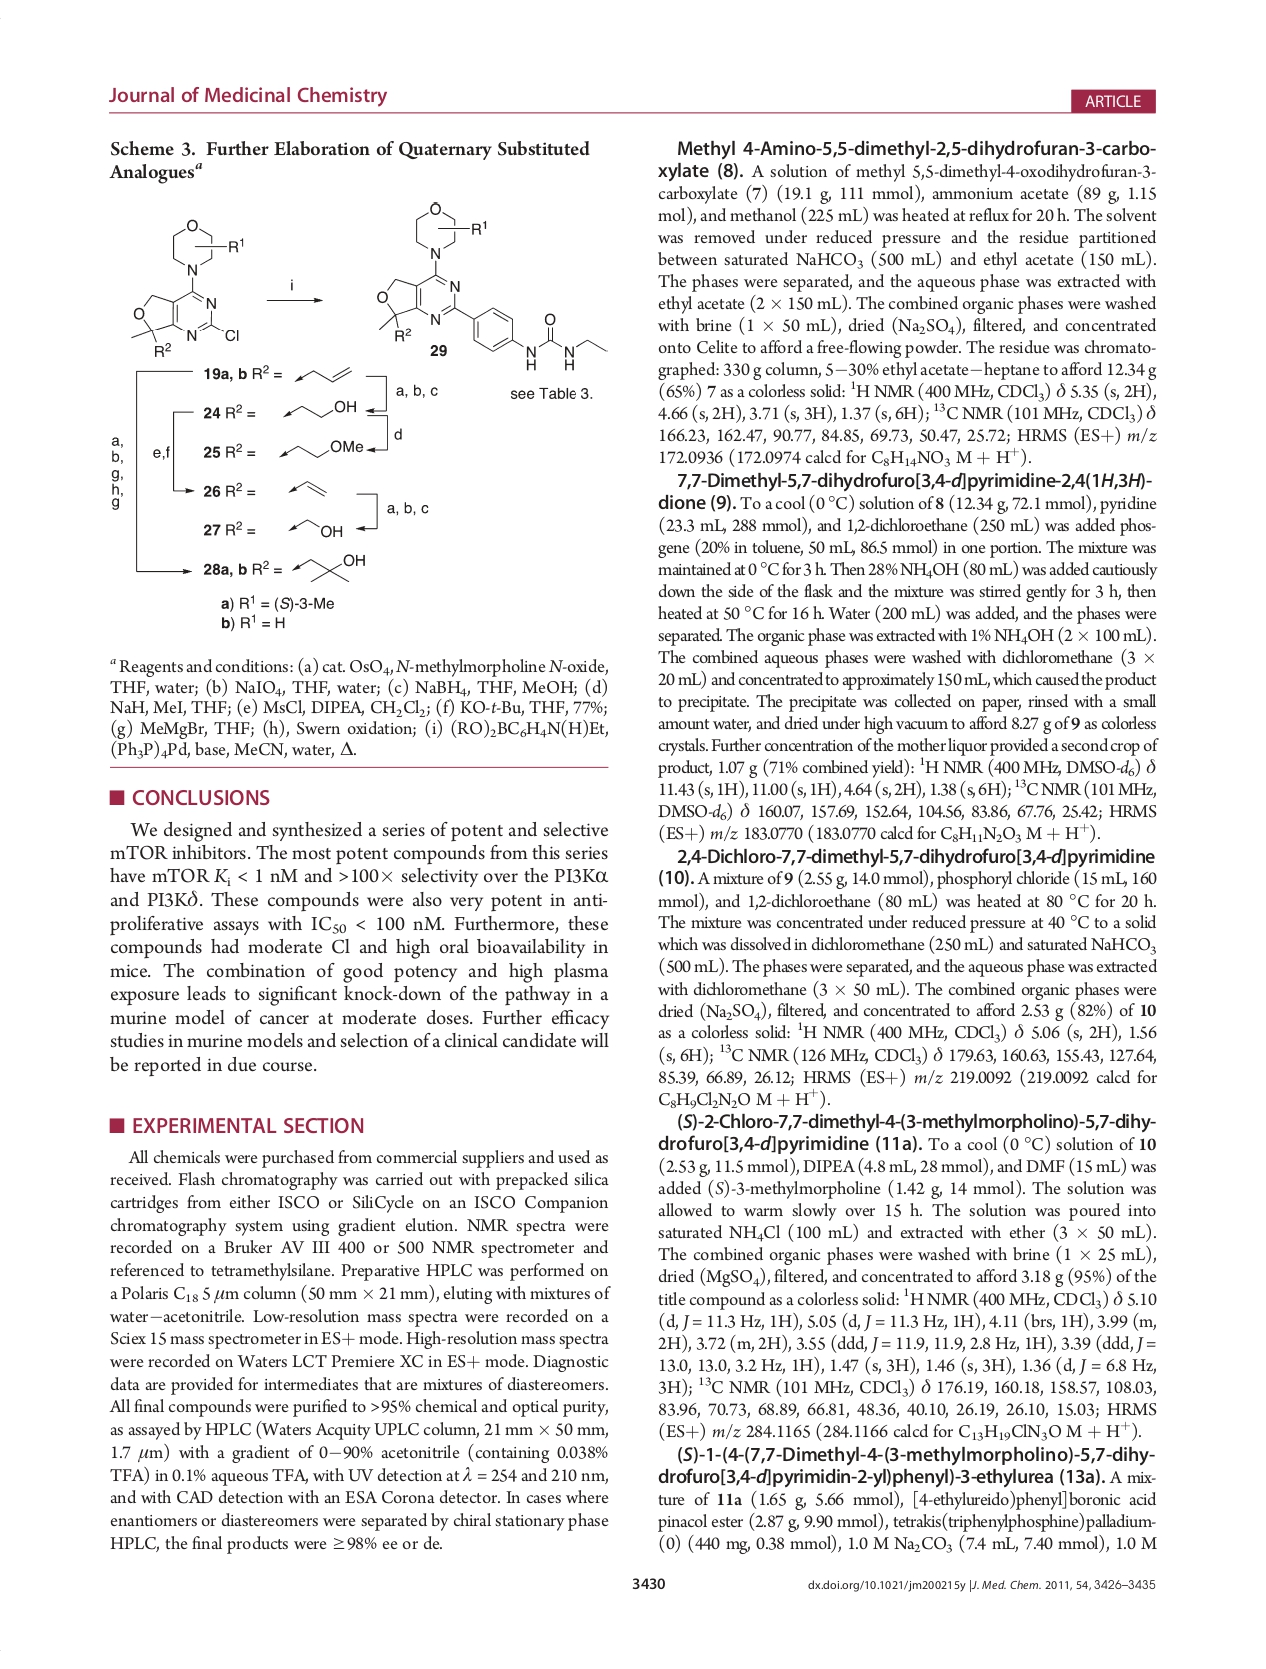exist_molecular: (374, 197, 612, 372), (128, 215, 245, 359), (274, 435, 364, 465), (290, 553, 371, 584), (281, 398, 358, 423), (285, 513, 346, 541), (293, 364, 352, 388), (285, 477, 328, 501)
